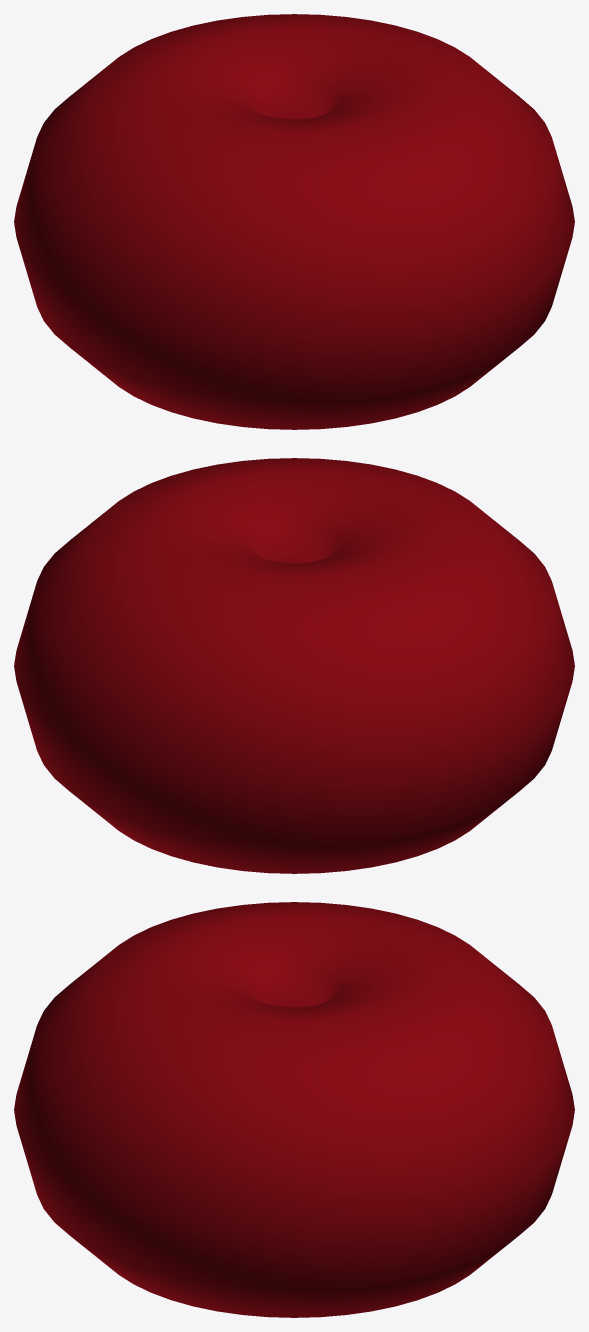
The picture shows the model from 3 angles, top to bottom: view 1: azimuth 30°, elevation 25°; view 2: azimuth 150°, elevation 25°; view 3: azimuth 270°, elevation 25°; orthographic projection.
Visible parts, largest first — view 1: Torus; view 2: Torus; view 3: Torus.
Boxes of the visible parts, x1,y1,x2,y2 form: Torus: [14, 14, 574, 429]; Torus: [14, 458, 574, 873]; Torus: [14, 902, 574, 1317].
Size of the model in its own units: 0.9 by 0.5001 by 0.9.
